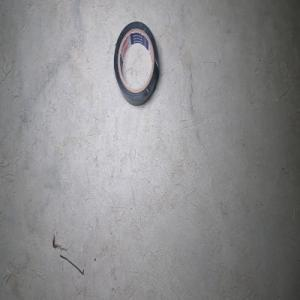Tape: (113, 21, 159, 106)
